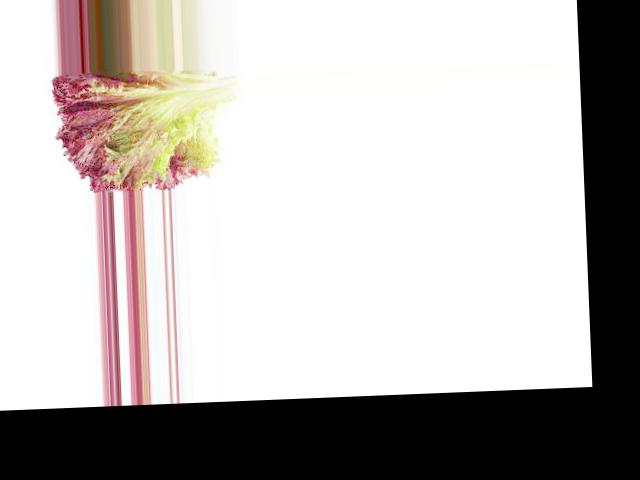lettuce: (76, 64, 239, 192)
